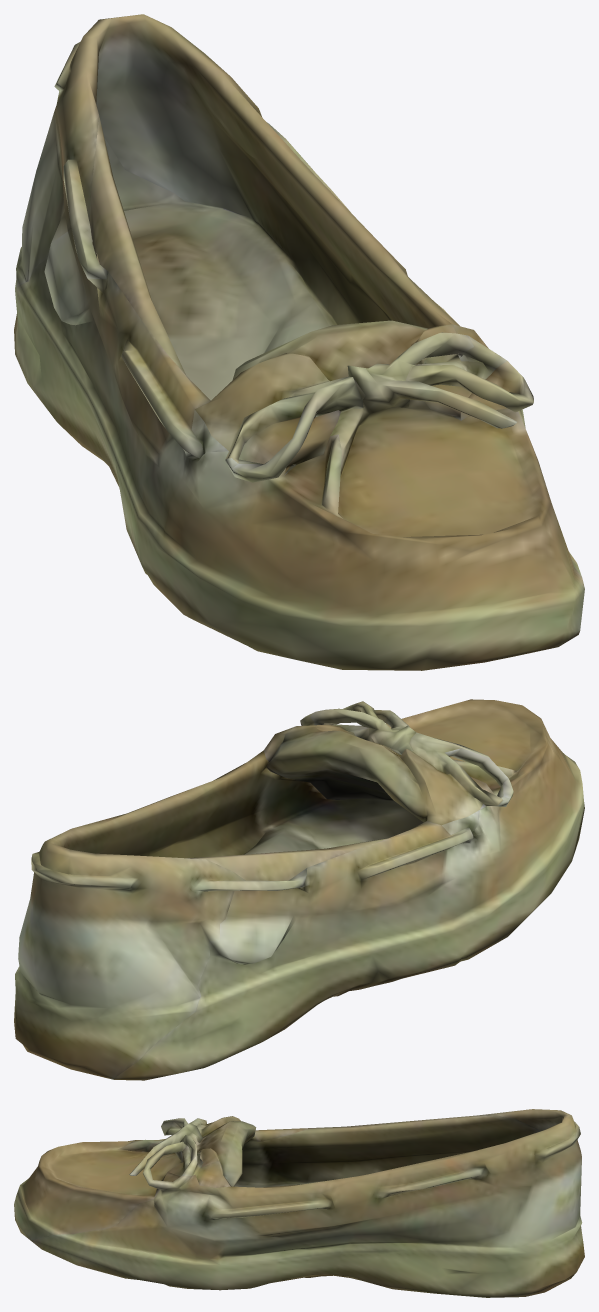
File: gso_womens_angelfish_boat_shoe_in_linen_oat.glb
The picture shows the model from 3 angles, top to bottom: view 1: azimuth 30°, elevation 25°; view 2: azimuth 150°, elevation 25°; view 3: azimuth 270°, elevation 25°; orthographic projection. The views are drawn at different scales.
Visible parts, largest first — view 1: z-up-to-y-up; view 2: z-up-to-y-up; view 3: z-up-to-y-up.
Boxes of the visible parts, x1,y1,x2,y2 form: z-up-to-y-up: [14, 14, 584, 670]; z-up-to-y-up: [14, 699, 584, 1080]; z-up-to-y-up: [14, 1109, 584, 1297].
Bounding box in the file's own units: 0.0971 × 0.0766 × 0.2442.
1 material, 1 textured.
